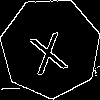X: (25, 22, 69, 76)
